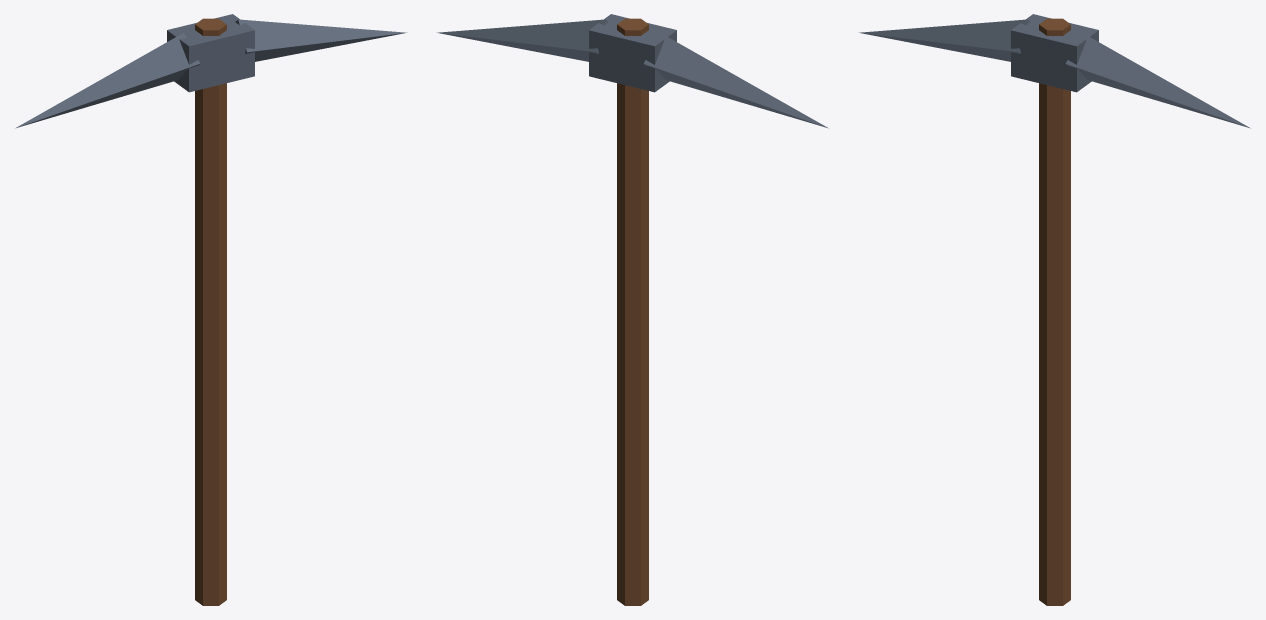
Rendered from iron_pickaxe.glb.
3 views of the same model, side by side, from view 1: azimuth 30°, elevation 25°; view 2: azimuth 150°, elevation 25°; view 3: azimuth 330°, elevation 25° (orthographic).
Parts seen in each view (by area): view 1: iron_pickaxe; view 2: iron_pickaxe; view 3: iron_pickaxe.
Boxes of the visible parts, <box> form: iron_pickaxe: <box>15,14,406,605</box>; iron_pickaxe: <box>437,14,828,605</box>; iron_pickaxe: <box>859,14,1250,605</box>.
Size of the model in its own units: 0.5149 by 0.72 by 0.0576.
